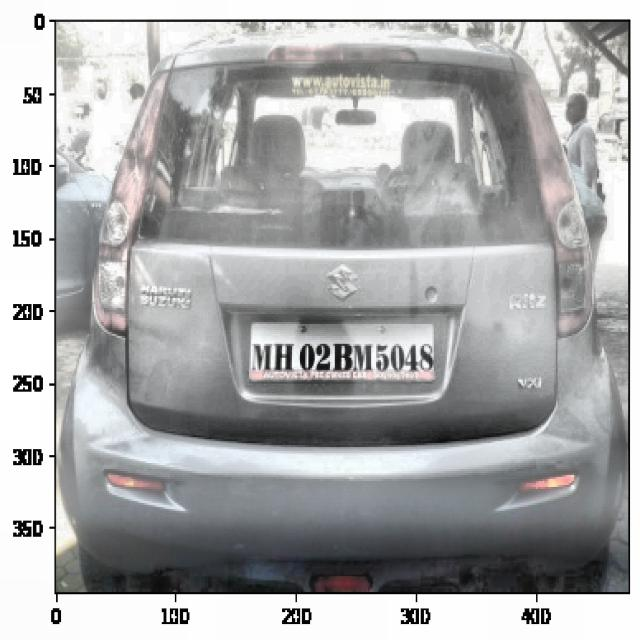license_plate: (250, 328, 437, 382)
